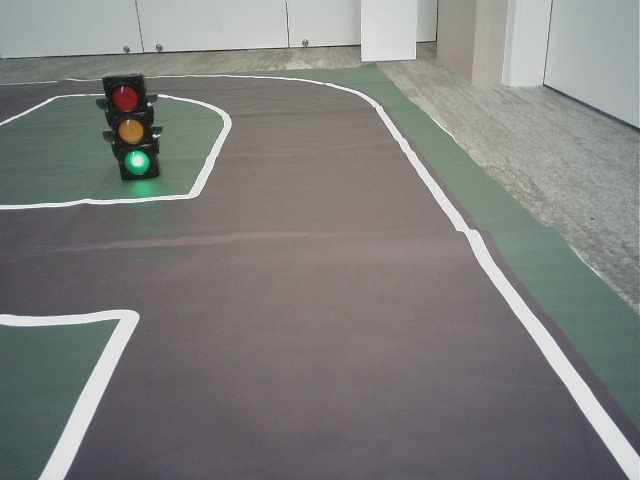green: (107, 81, 155, 175)
